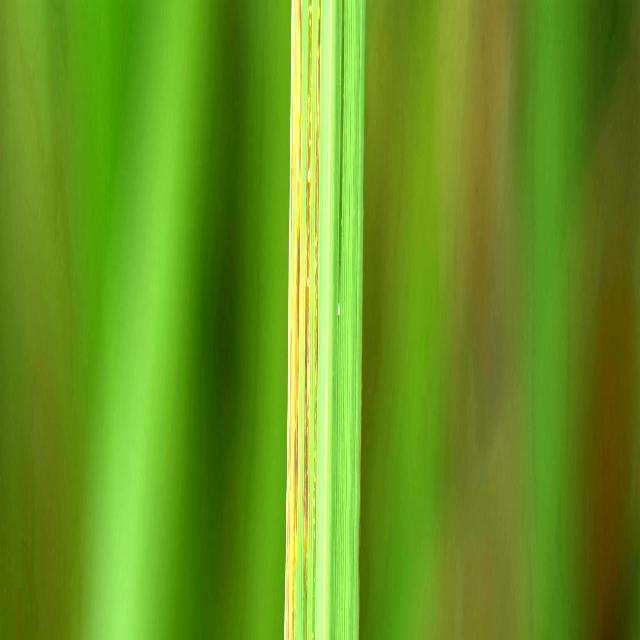BLS: (302, 1, 313, 640), (291, 2, 302, 640), (285, 1, 295, 640), (312, 1, 321, 640)
